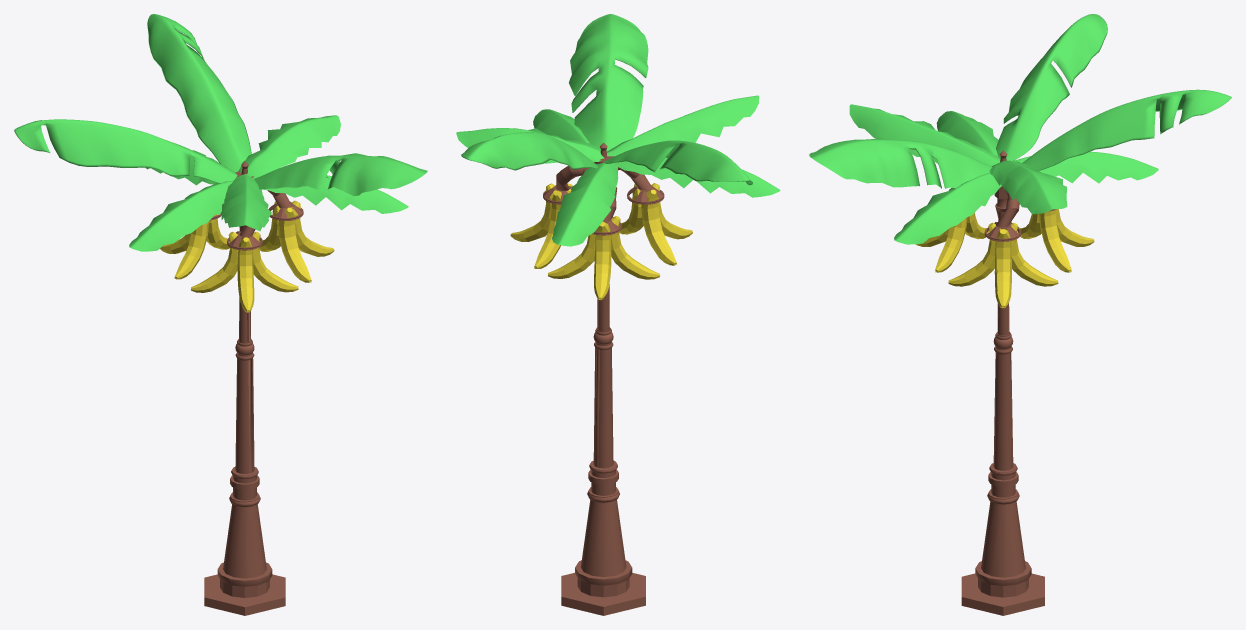
File: BananaLight.fbx
3 renders of one model, left to right at view 1: azimuth 30°, elevation 25°; view 2: azimuth 150°, elevation 25°; view 3: azimuth 270°, elevation 25°, orthographic. The views are drawn at different scales.
Visible parts, largest first — view 1: Plane.001, street_light:street_light1, Banana.002; view 2: Plane.001, street_light:street_light1, Banana.002; view 3: Plane.001, street_light:street_light1, Banana.002.
Part boxes in pixels (bbox=[...]): Plane.001: bbox=[14, 14, 427, 251]; street_light:street_light1: bbox=[204, 161, 291, 615]; Banana.002: bbox=[160, 200, 334, 312]; Plane.001: bbox=[456, 14, 780, 246]; street_light:street_light1: bbox=[556, 142, 652, 615]; Banana.002: bbox=[510, 183, 692, 300]; Plane.001: bbox=[809, 14, 1231, 244]; street_light:street_light1: bbox=[961, 150, 1044, 615]; Banana.002: bbox=[916, 209, 1094, 308].
Bounding box in the file's own units: 91.87 × 145 × 108.
